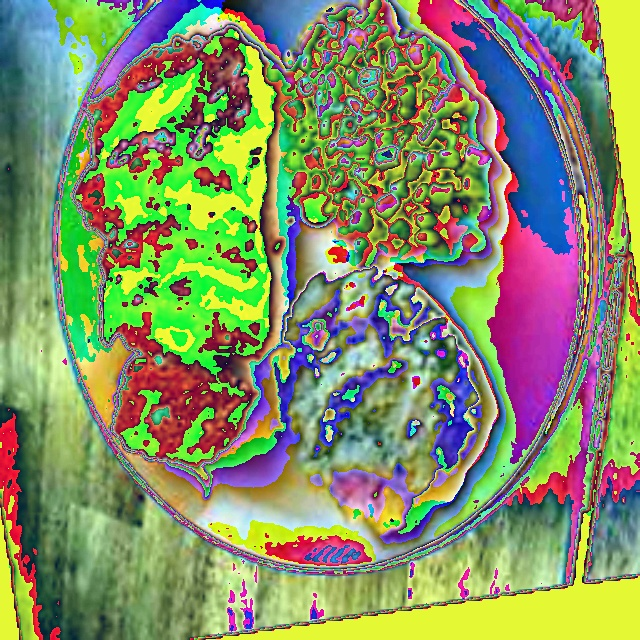background: (70, 0, 492, 535)
